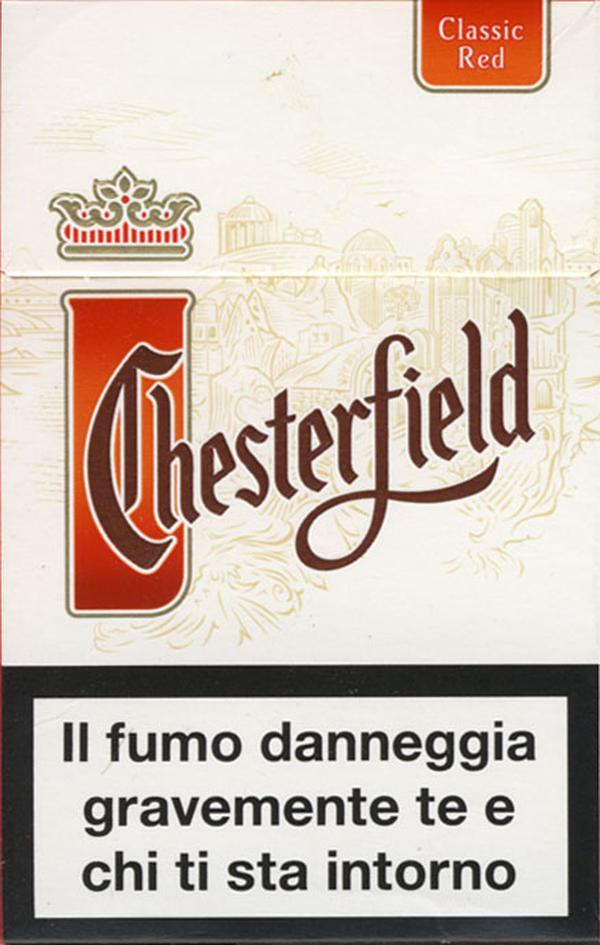chesterfield_red: (3, 1, 597, 945)
